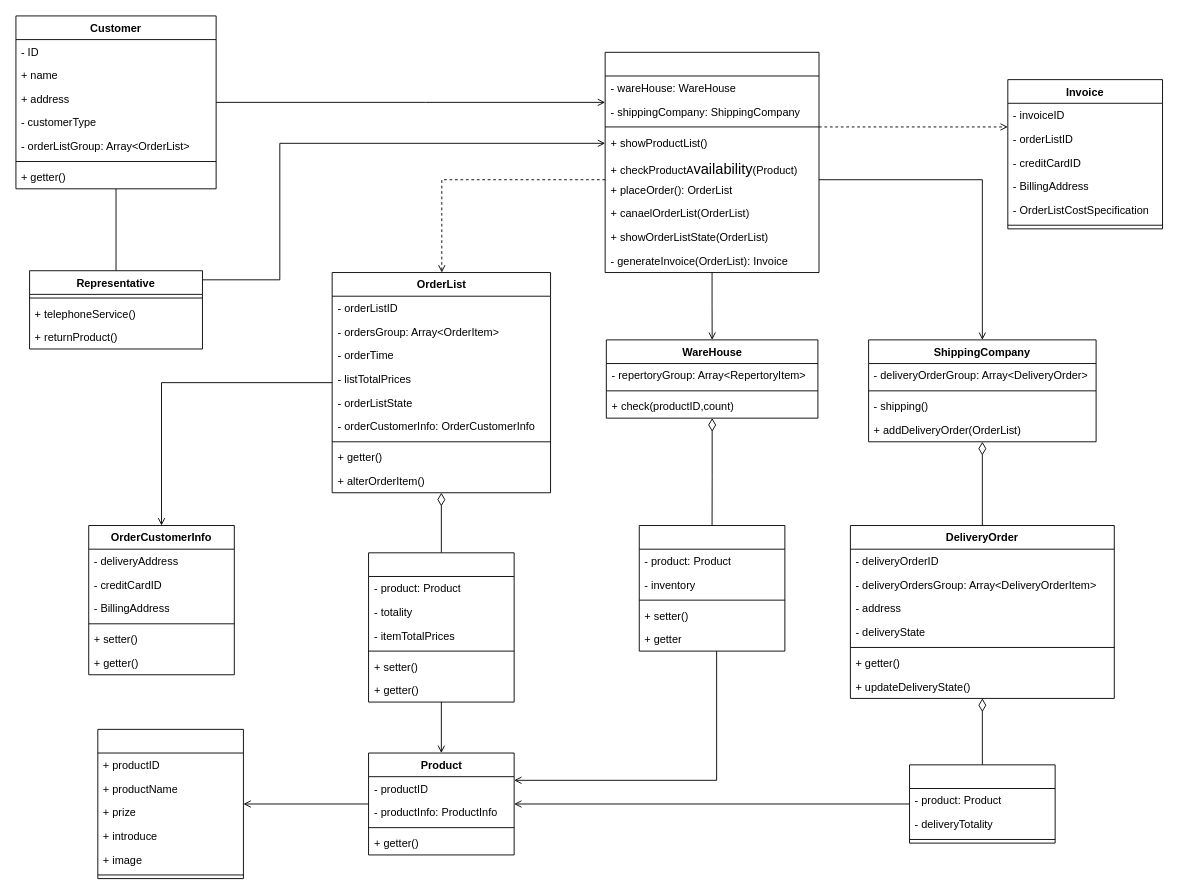
Some shapes in this 1178 by 895 pixel diagram are drawn without their labels. Here are the shapes that lost their labels. From the top down, the box of each, then its label:
(604, 51, 819, 273): OrderProcessingSystem
(638, 525, 785, 651): RepertoryItem
(368, 552, 514, 702): OrderItem
(97, 728, 243, 879): ProductInfo
(909, 764, 1055, 843): DeliveryOrderItem
